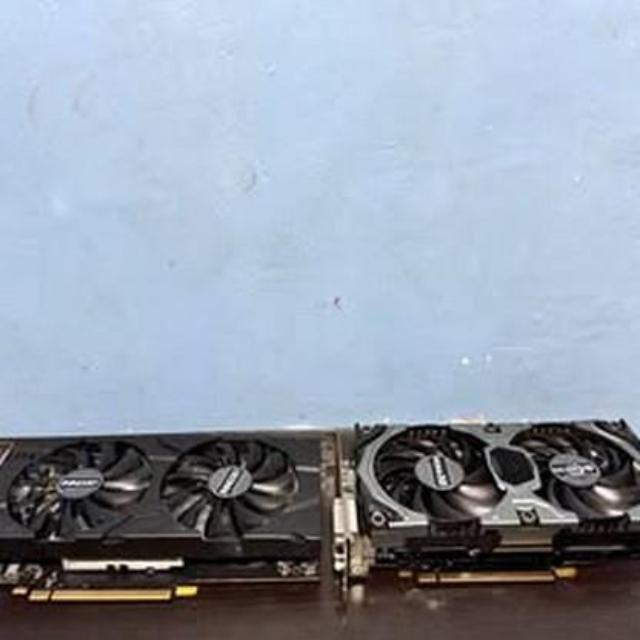GPU: (3, 422, 337, 607), (335, 418, 640, 588)
